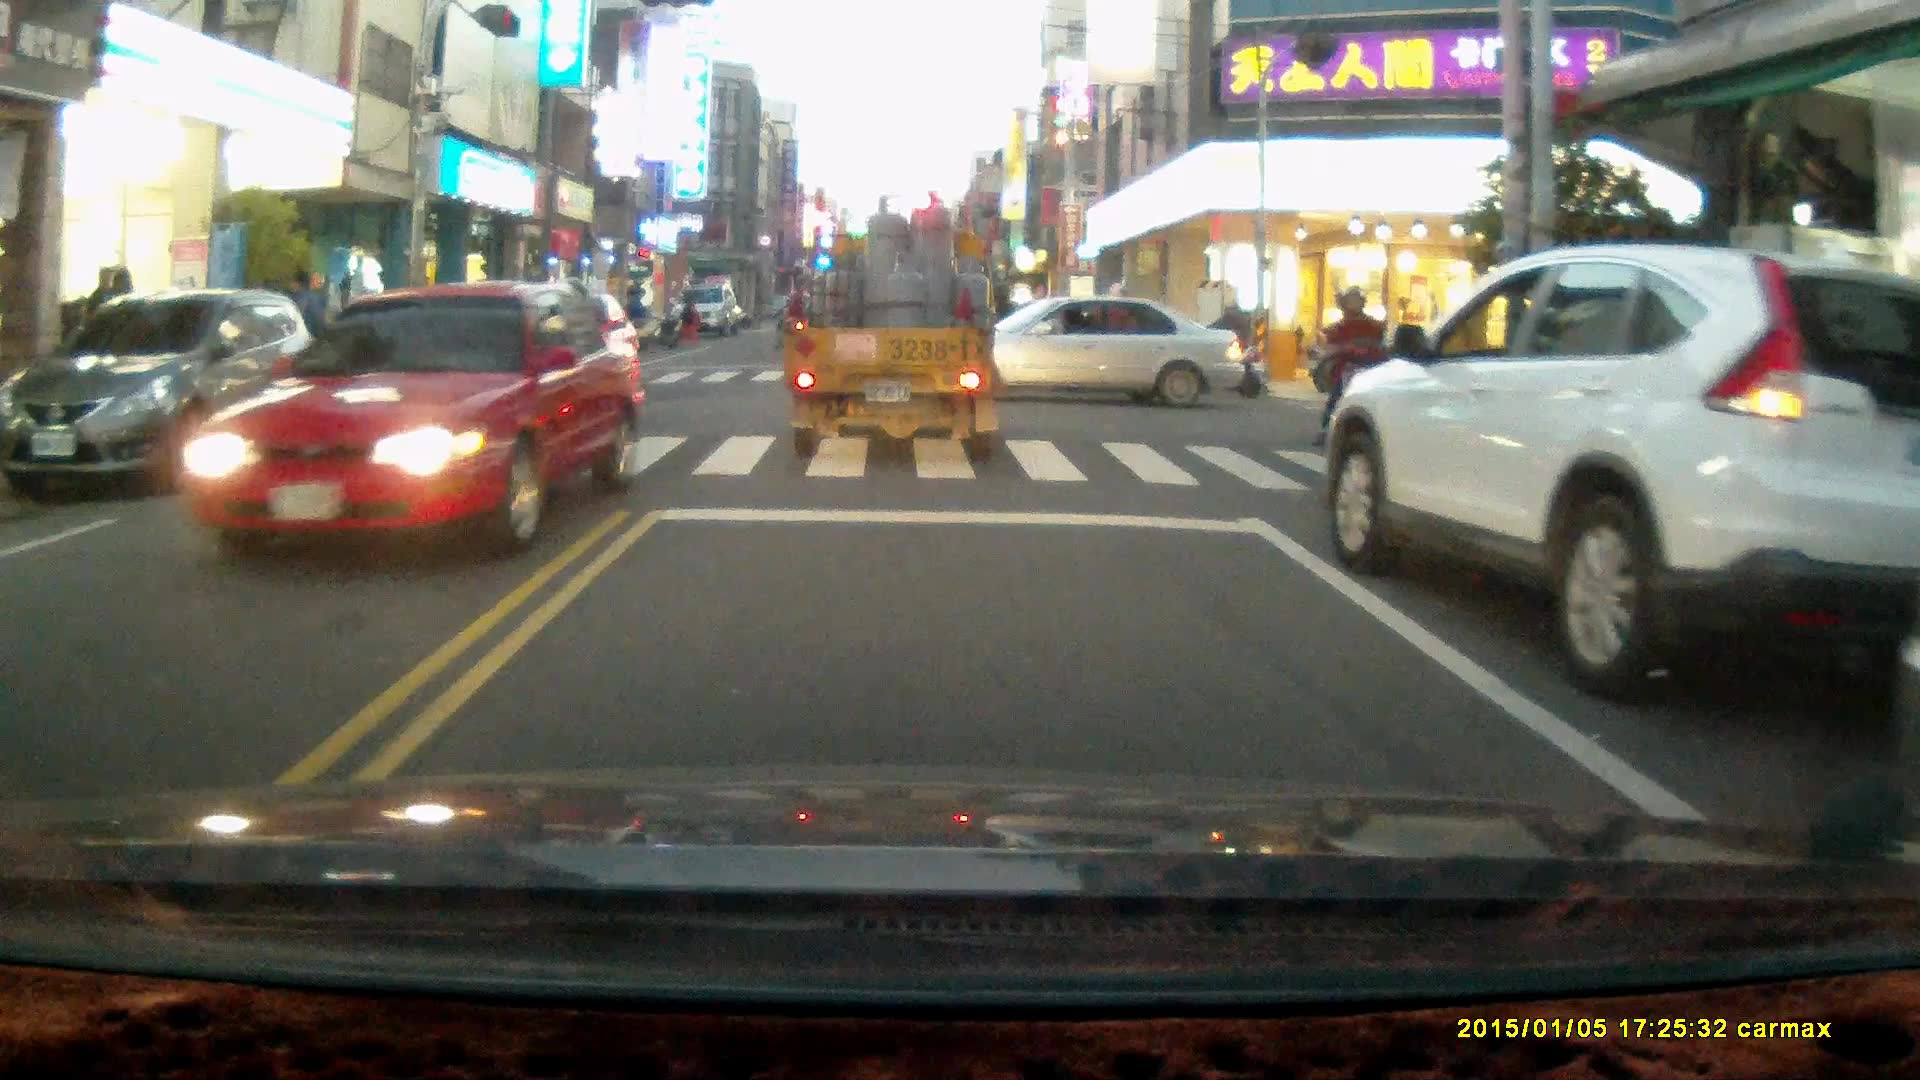rider: (1310, 280, 1402, 466), (1174, 294, 1266, 397)
vehicle: (1319, 240, 1920, 705), (166, 278, 656, 560), (6, 289, 329, 496), (785, 191, 1009, 463), (920, 294, 1246, 411), (673, 284, 740, 336)
